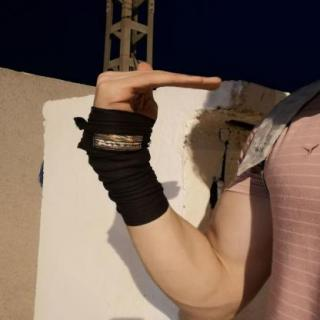KHAA: (70, 53, 238, 161)
